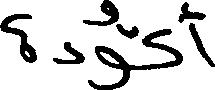X: (90, 0, 128, 89), (144, 2, 181, 74), (183, 0, 214, 71), (0, 9, 36, 67), (54, 15, 83, 68)
